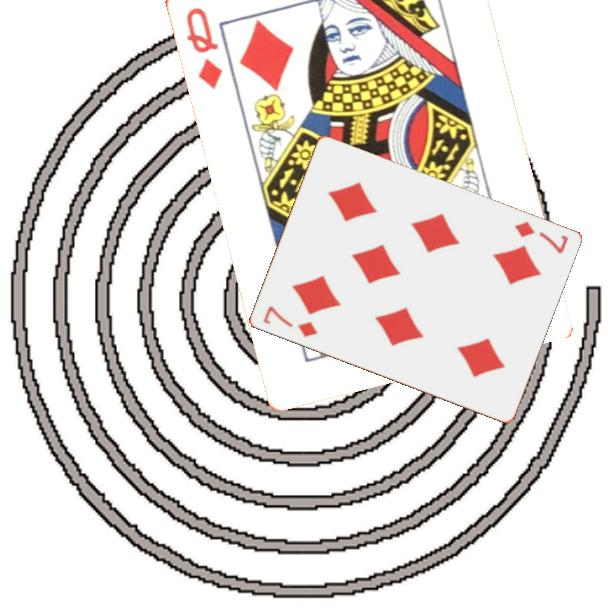d07: (510, 218, 571, 257), (259, 303, 320, 340)
d12: (182, 3, 225, 92)
